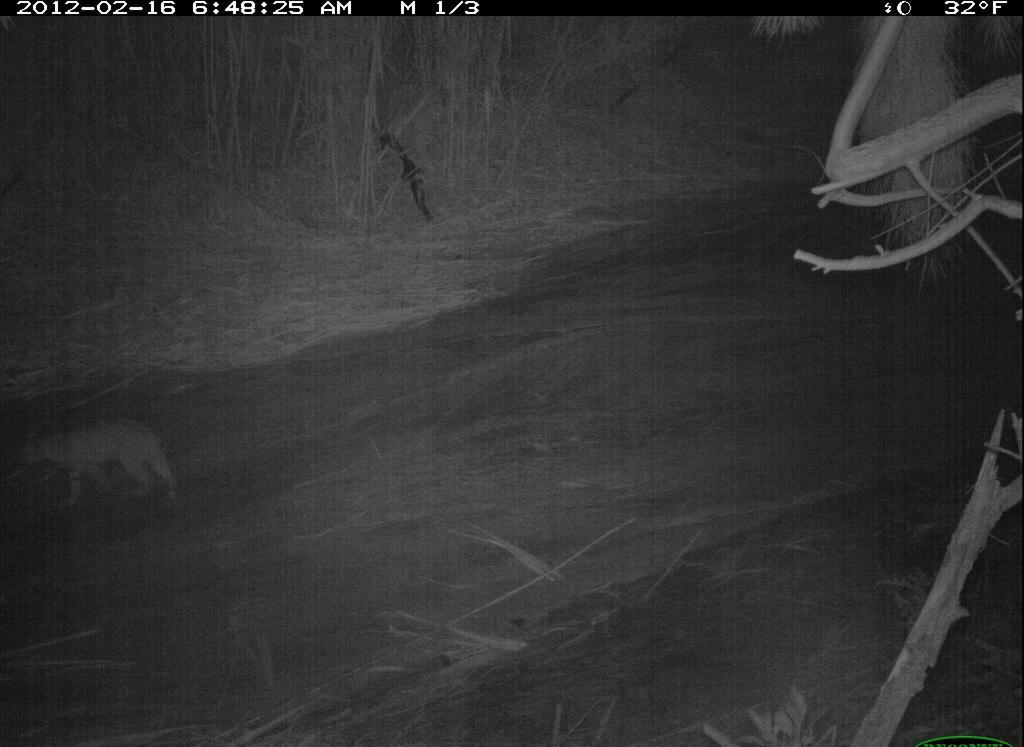bobcat: (21, 413, 185, 515)
